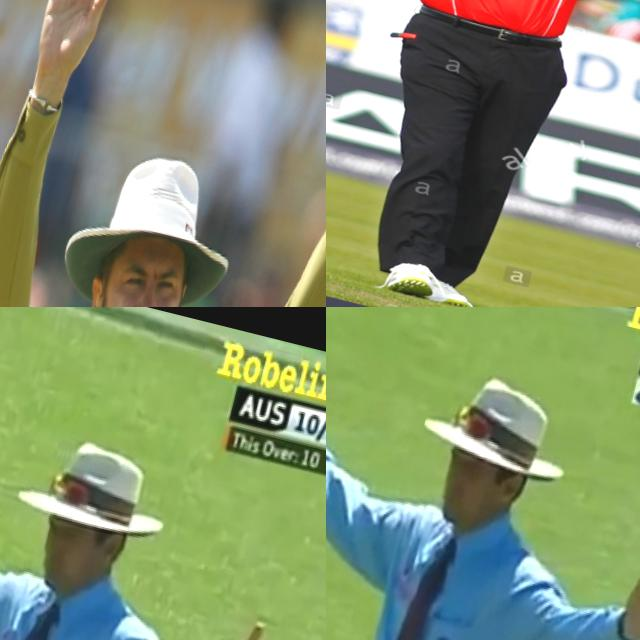Six: (0, 0, 326, 307), (326, 0, 640, 307)
Wide: (326, 307, 640, 640), (0, 369, 320, 640)
